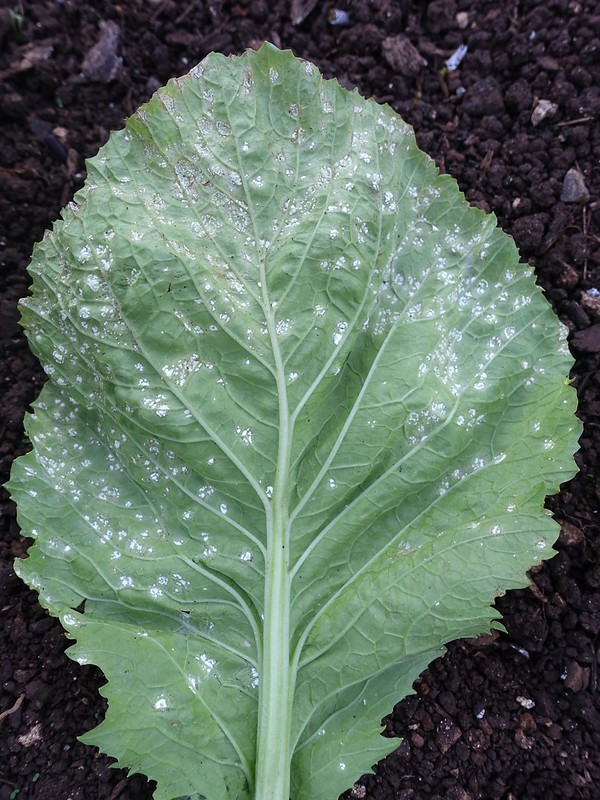Mustard_WhiteRust: (67, 97, 517, 765)
